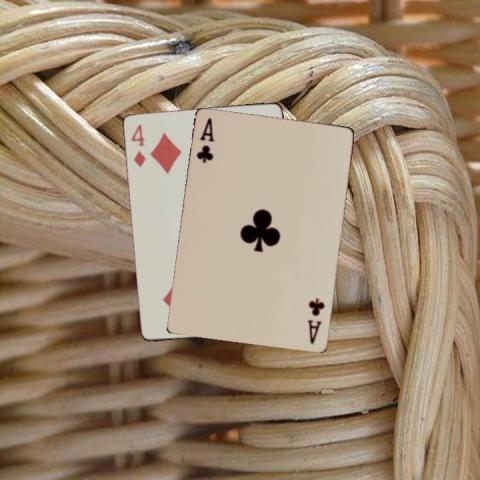4d: (129, 121, 147, 169)
Ac: (305, 295, 326, 346), (194, 115, 215, 165)
